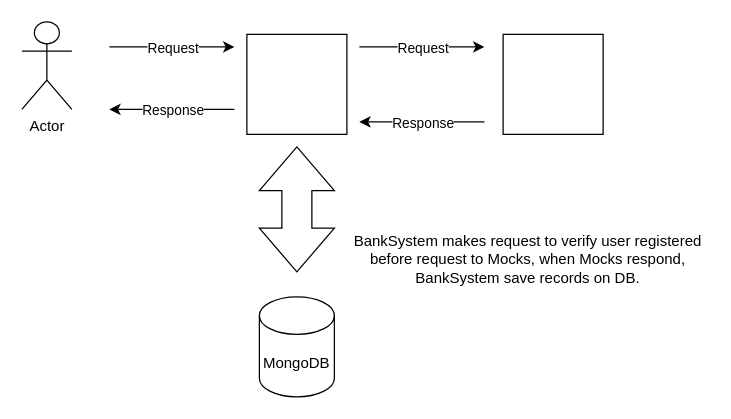
This 731x419 diagram has some shape labels left out. Here are the shapes that lost their labels. From the top down, the centre of each, then its label:
(296,83): BankSystem
(552,83): Mocks
